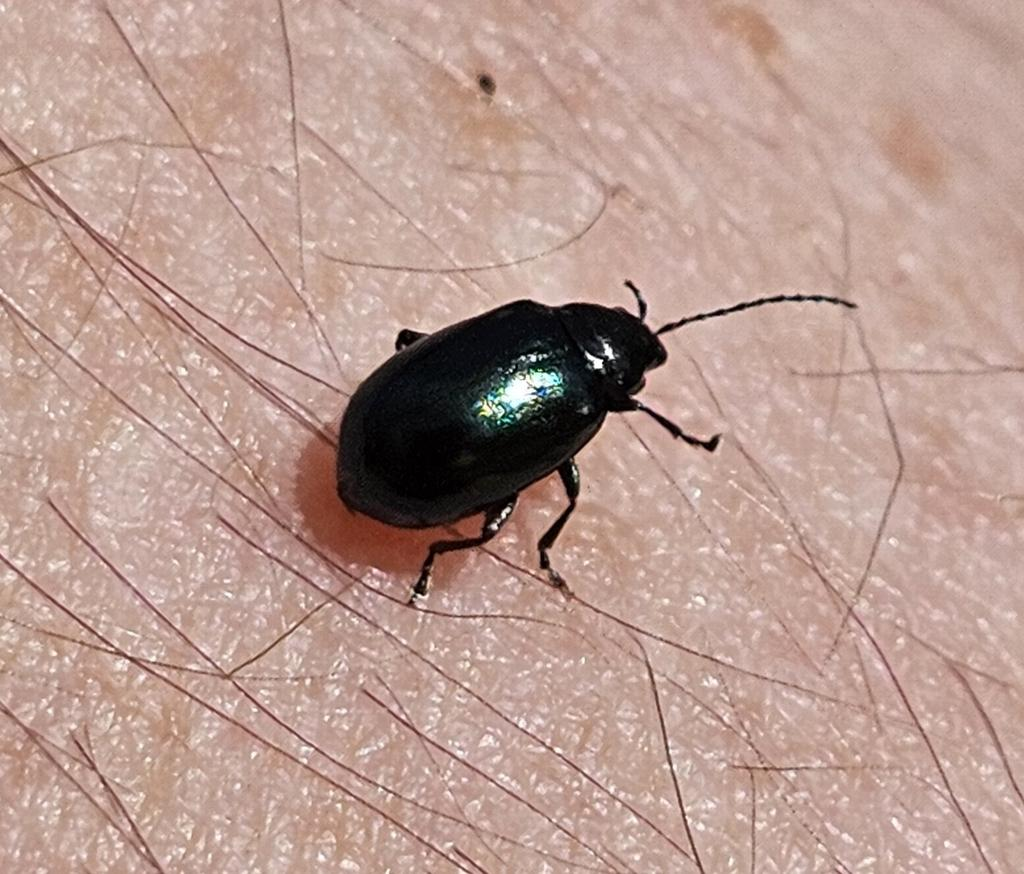flea_beetle: (263, 189, 887, 663)
